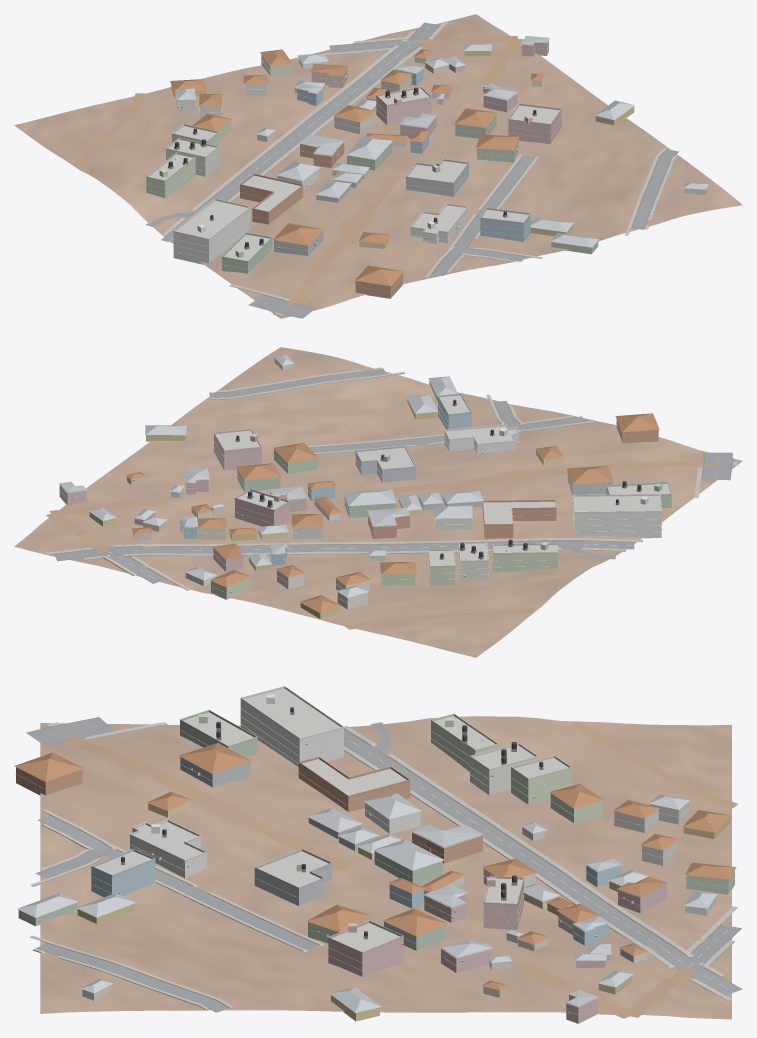
3 views of the same model, one above another, from view 1: azimuth 30°, elevation 25°; view 2: azimuth 150°, elevation 25°; view 3: azimuth 270°, elevation 25° (orthographic). The views are drawn at different scales.
Visible parts, largest first — view 1: Terrain-col, Buildings-col, Roads-col, Details, Sidewalks-col; view 2: Terrain-col, Buildings-col, Roads-col, Details, Sidewalks-col; view 3: Terrain-col, Buildings-col, Roads-col, Details, Sidewalks-col.
Boxes of the visible parts, bbox=[...] form: Terrain-col: bbox=[14, 14, 742, 318]; Buildings-col: bbox=[146, 36, 708, 298]; Roads-col: bbox=[73, 22, 678, 318]; Details: bbox=[146, 44, 600, 292]; Sidewalks-col: bbox=[161, 21, 678, 316]; Terrain-col: bbox=[14, 347, 742, 657]; Buildings-col: bbox=[59, 354, 671, 618]; Roads-col: bbox=[46, 369, 734, 629]; Details: bbox=[59, 393, 671, 603]; Sidewalks-col: bbox=[45, 367, 737, 590]; Terrain-col: bbox=[40, 716, 731, 1019]; Buildings-col: bbox=[14, 688, 736, 1023]; Roads-col: bbox=[26, 717, 742, 1018]; Details: bbox=[15, 686, 735, 1015]; Sidewalks-col: bbox=[30, 722, 737, 1009].
Size of the model in its own units: 271 by 16.21 by 270.
